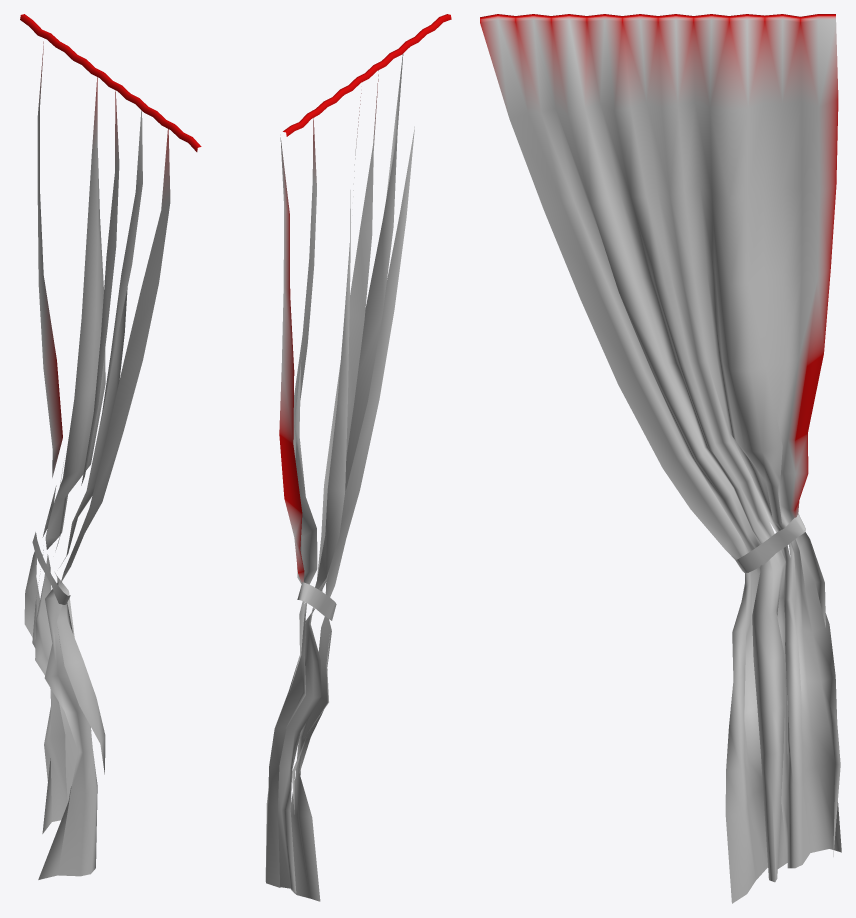
File: Attic_Drape_01_LP.glb
3 views of the same model, side by side, from view 1: azimuth 30°, elevation 25°; view 2: azimuth 150°, elevation 25°; view 3: azimuth 270°, elevation 25° (orthographic). The views are drawn at different scales.
Parts seen in each view (by area): view 1: Attic_Drape_01_LP; view 2: Attic_Drape_01_LP; view 3: Attic_Drape_01_LP.
Boxes of the visible parts, box(x1,y1,x2,y2) form: Attic_Drape_01_LP: box(20, 14, 201, 879); Attic_Drape_01_LP: box(265, 14, 451, 901); Attic_Drape_01_LP: box(480, 14, 841, 903).
Size of the model in its own units: 0.2405 by 2.46 by 0.9319.
